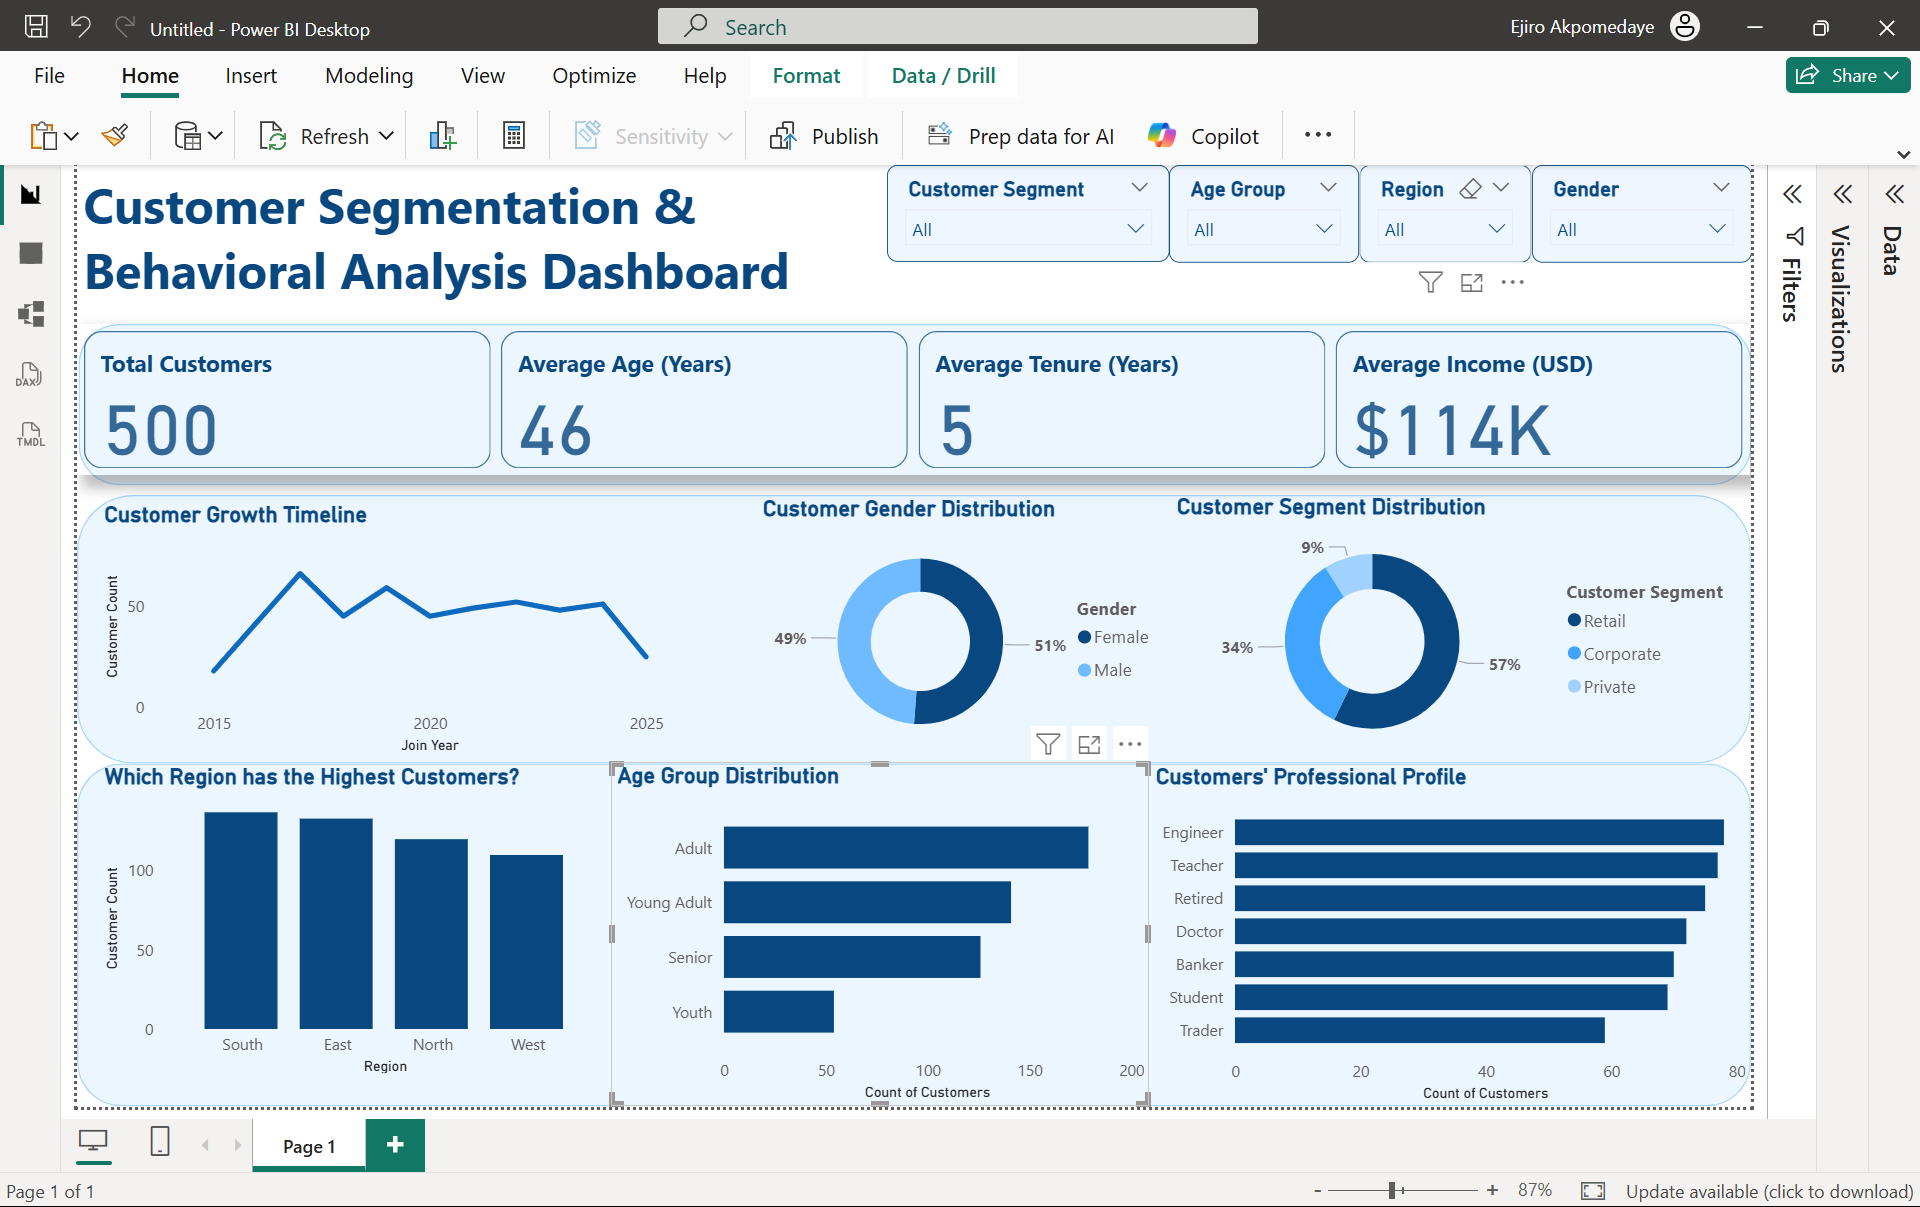

The dashboard page shown, as its layout file describes it:
{"tool":"powerbi","page":{"name":"Page 1","canvas":[1280,720],"ordinal":0},"visuals":[{"type":"slicer","fields":{"Values":["customers.Gender"]},"box":[1111.5,0,168,74.8],"z":0},{"type":"shape","box":[1.6,121,1279,123.2],"z":0,"group":"g1"},{"type":"group","id":"g1","title":"Background","box":[0,121,1280.5,598.2],"z":1000},{"type":"shape","box":[0,251.8,1279.6,205.3],"z":1000,"group":"g1"},{"type":"cardVisual","fields":{"Data":["_measures.Total Customers","_measures.Average Age","_measures.Average Tenure","_measures.Average Income"]},"box":[0,121.6,1279,115.3],"z":2000},{"type":"shape","box":[0,457.1,1279.6,262.1],"z":2000,"group":"g1"},{"type":"slicer","fields":{"Values":["customers.Customer_Segment"]},"box":[619,0,216.3,74.2],"z":3000},{"type":"lineChart","title":"Customer Growth Timeline","fields":{"Y":["_measures.Total Customers"],"Category":["customers.Join_Year"]},"box":[16.1,256.9,469.6,196.7],"z":4000},{"type":"slicer","fields":{"Values":["customers.Age Group"]},"box":[835.2,0,145.1,74.8],"z":5000},{"type":"columnChart","title":"Which Region has the Highest Customers?","fields":{"Category":["customers.Region"],"Y":["_measures.Total Customers"]},"box":[15.8,457.9,391.6,241.6],"z":6000},{"type":"slicer","fields":{"Values":["customers.Region"]},"box":[980.2,0,131.3,74.8],"z":7000},{"type":"donutChart","title":"Customer Gender Distribution","fields":{"Category":["customers.Gender"],"Y":["CountNonNull(customers.Gender)"]},"box":[519.5,252.6,315.8,203.7],"z":8000},{"type":"clusteredBarChart","title":"Age Group Distribution","fields":{"Y":["_measures.Total Customers"],"Category":["customers.Age Group"]},"box":[407.7,456.5,412.2,262.6],"z":9000},{"type":"clusteredBarChart","title":"Customers'' Professional Profile","fields":{"Category":["customers.Occupation"],"Y":["_measures.Total Customers"]},"box":[819.2,457.3,460.3,262],"z":10000},{"type":"donutChart","title":"Customer Segment Distribution","fields":{"Category":["customers.Customer_Segment"],"Y":["CountNonNull(customers.Customer_Segment)"]},"box":[835.8,251.4,443.7,205.9],"z":11000},{"type":"textbox","box":[0,0,604.3,109.8],"z":12000}]}

Visuals, with their boxes on the page's 1280x720 design canvas (x1, y1, x2, y2). These are canvas units, not pixel positions in the 1920x1207 screenshot, which may show the page scaled, cropped or inside an application window:
slicer - customers.Gender: x1=1112 y1=0 x2=1280 y2=75
shape: x1=2 y1=121 x2=1281 y2=244
"Background" group: x1=0 y1=121 x2=1280 y2=719
shape: x1=0 y1=252 x2=1280 y2=457
cardVisual - _measures.Total Customers x _measures.Average Age: x1=0 y1=122 x2=1279 y2=237
shape: x1=0 y1=457 x2=1280 y2=719
slicer - customers.Customer_Segment: x1=619 y1=0 x2=835 y2=74
"Customer Growth Timeline" lineChart: x1=16 y1=257 x2=486 y2=454
slicer - customers.Age Group: x1=835 y1=0 x2=980 y2=75
"Which Region has the Highest Customers?" columnChart: x1=16 y1=458 x2=407 y2=700
slicer - customers.Region: x1=980 y1=0 x2=1112 y2=75
"Customer Gender Distribution" donutChart: x1=520 y1=253 x2=835 y2=456
"Age Group Distribution" clusteredBarChart: x1=408 y1=456 x2=820 y2=719
"Customers'' Professional Profile" clusteredBarChart: x1=819 y1=457 x2=1280 y2=719
"Customer Segment Distribution" donutChart: x1=836 y1=251 x2=1280 y2=457
textbox: x1=0 y1=0 x2=604 y2=110
